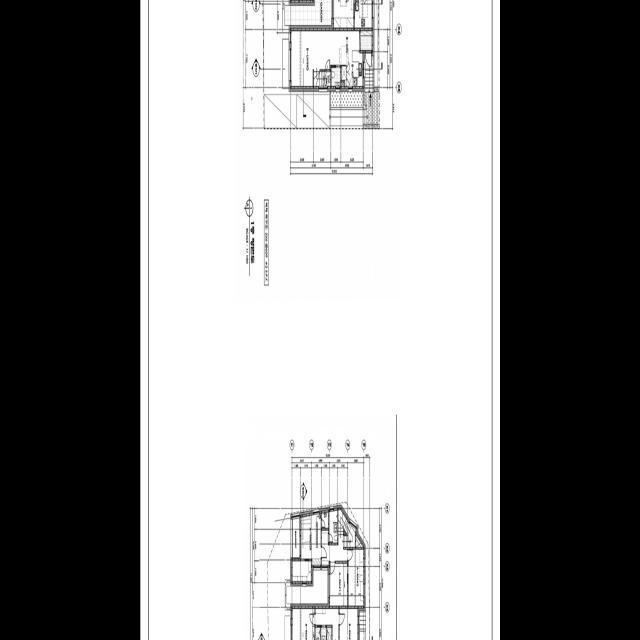background: (140, 0, 500, 640)
space_balconi: (292, 518, 300, 559)
space_bedroom: (301, 514, 320, 565), (348, 549, 363, 606), (329, 564, 347, 606), (292, 609, 314, 640), (339, 608, 357, 640)
space_front: (360, 31, 371, 50)
space_kitchen: (341, 50, 362, 86), (333, 0, 353, 28), (354, 0, 371, 28)
space_living_room: (291, 31, 359, 86)
space_other: (290, 568, 329, 607), (288, 0, 332, 29), (321, 530, 347, 565), (315, 609, 338, 640), (292, 561, 311, 582), (356, 536, 363, 547), (343, 529, 348, 536), (341, 82, 344, 86)
space_staircase: (338, 510, 355, 547), (313, 70, 330, 86)
space_toilet: (329, 510, 337, 543), (331, 68, 340, 86), (321, 512, 328, 528), (321, 627, 326, 640), (326, 628, 331, 640), (315, 628, 320, 640)
